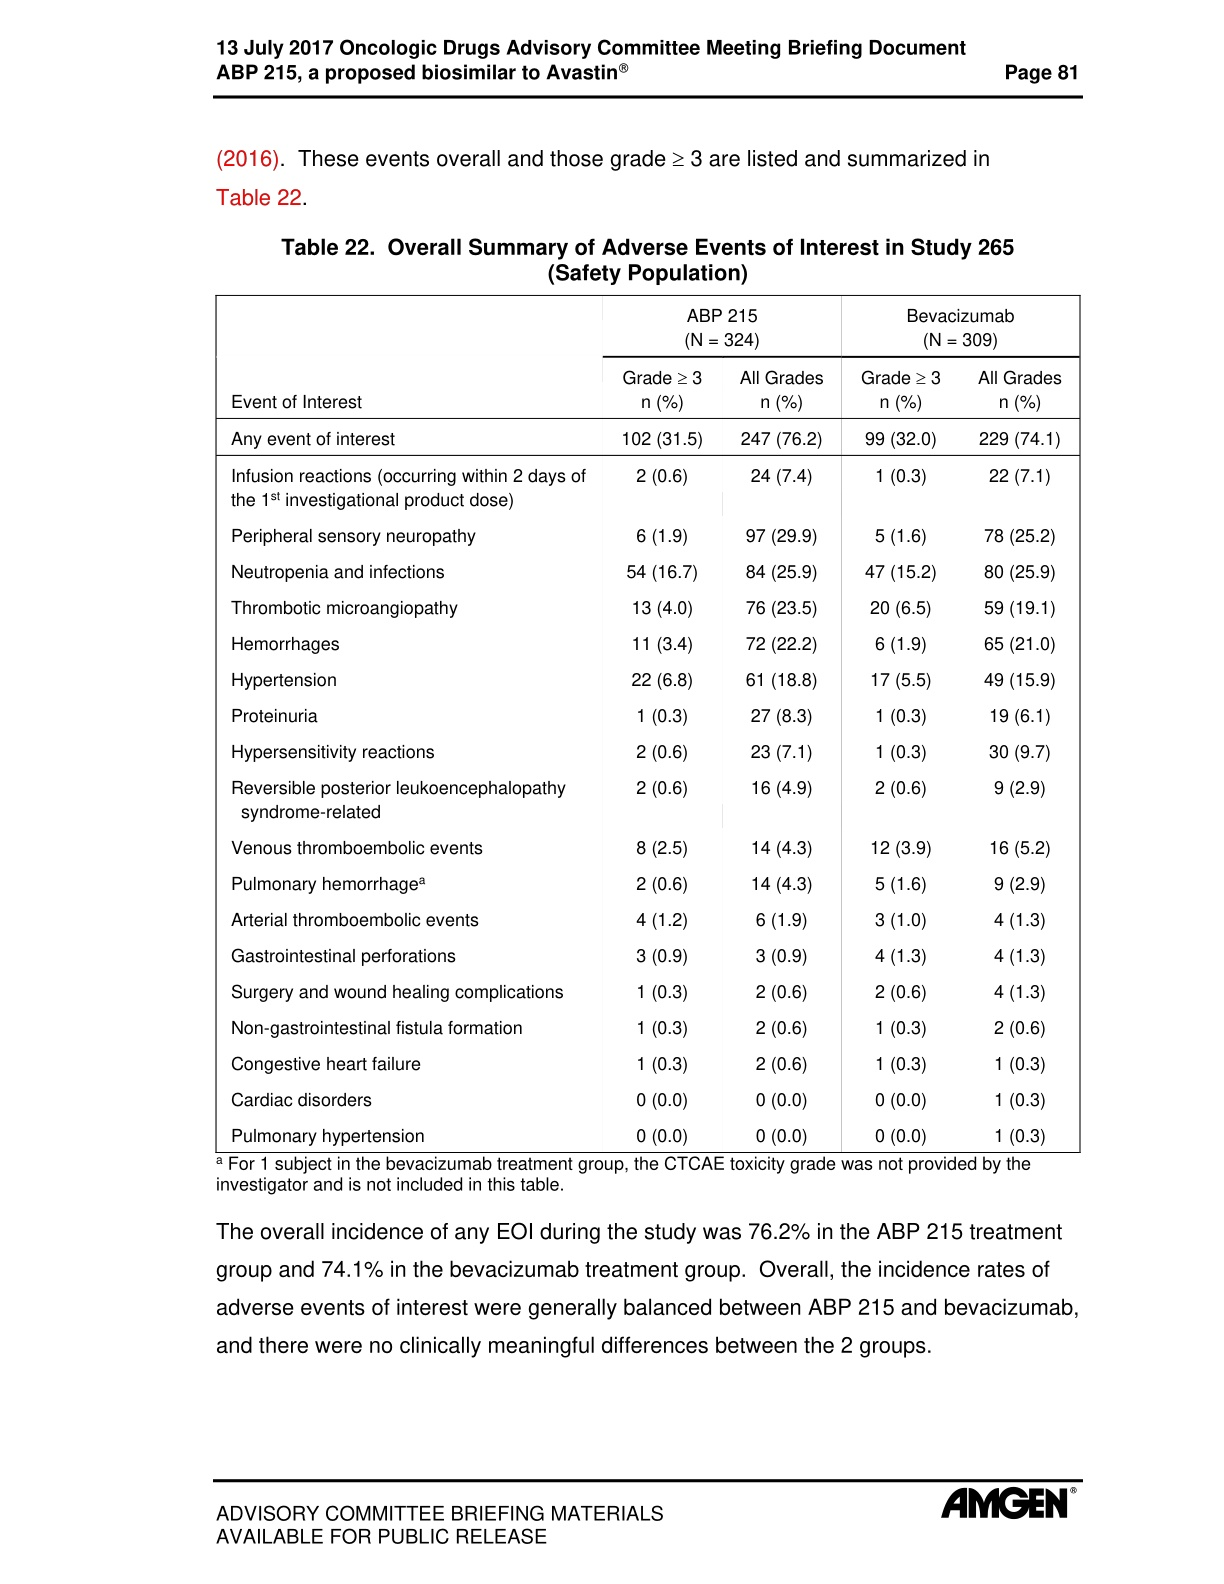partial_lined_merged_cells: (213, 294, 1081, 1155)
